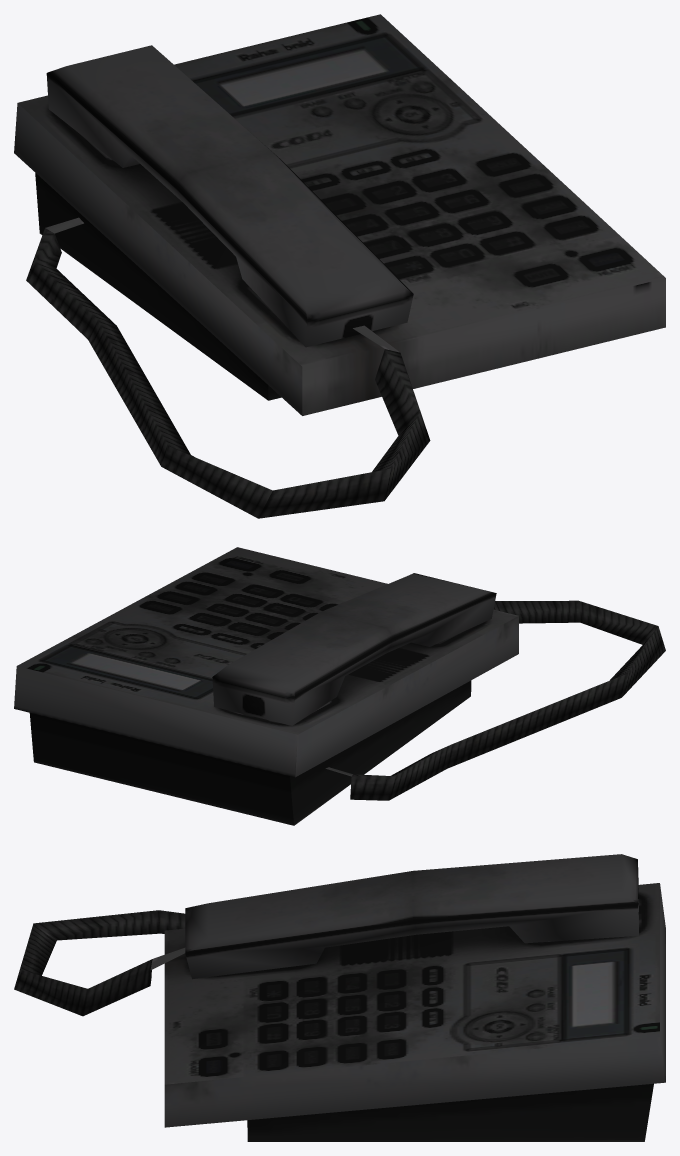
Rendered from com_telephone_desk_lod2.glb.
The picture shows the model from 3 angles, top to bottom: view 1: azimuth 30°, elevation 25°; view 2: azimuth 150°, elevation 25°; view 3: azimuth 270°, elevation 25°; orthographic projection. The views are drawn at different scales.
Visible parts, largest first — view 1: surf0; view 2: surf0; view 3: surf0.
Boxes of the visible parts, x1=… form: surf0: x1=14, y1=14, x2=665, y2=518; surf0: x1=14, y1=547, x2=665, y2=825; surf0: x1=14, y1=854, x2=665, y2=1141.
Size of the model in its own units: 14.2 by 4.71 by 18.43.
